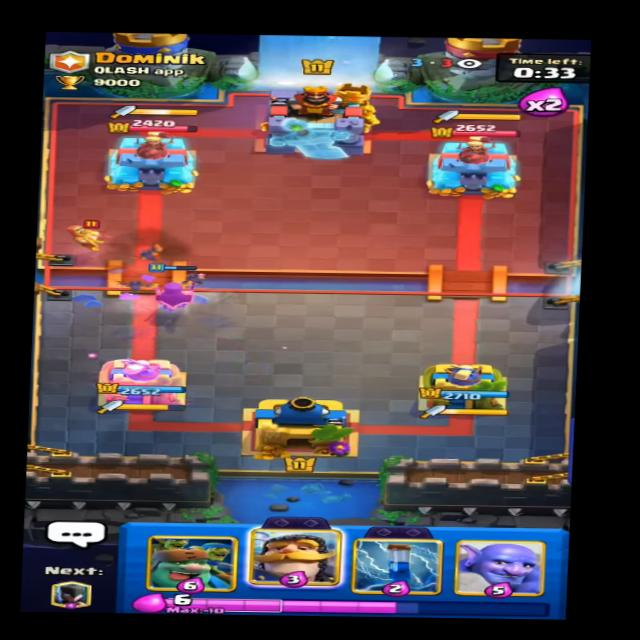wizard: (66, 216, 124, 252)
